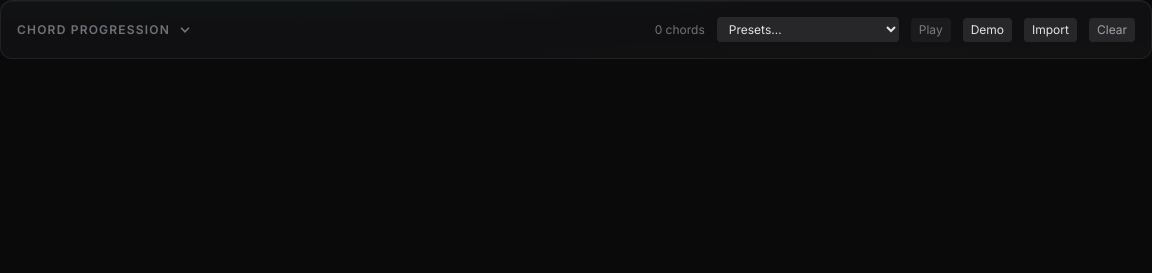
ProgressionEditor › expands to show textarea when the header is clicked
Click the button "Chord progression": (105,30) [17,22,192,38]
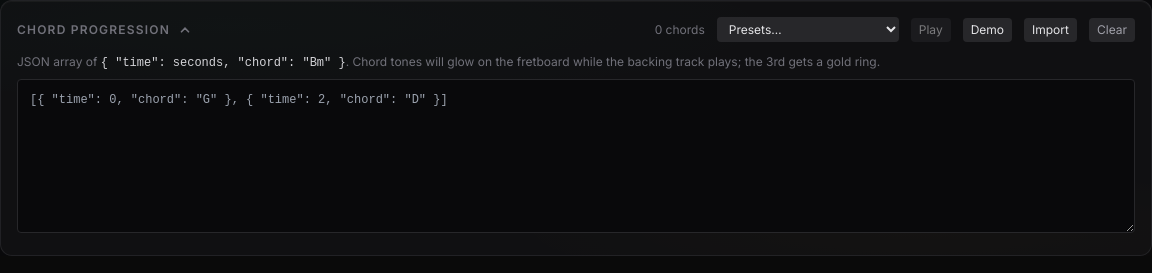
Expected: the text box is shown, [17,79,1135,233]
